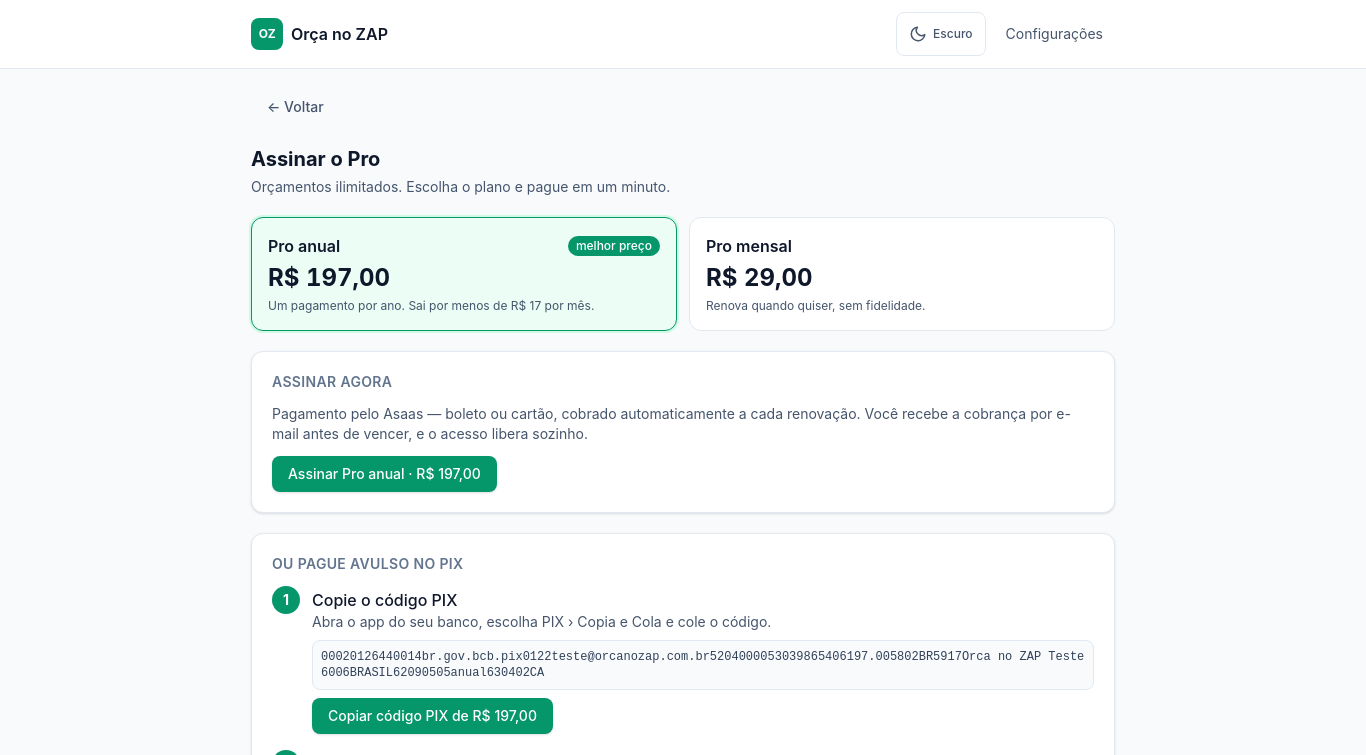
it: tela de assinatura › mostra um código PIX válido para o plano escolhido
Expected: the text "Pro anual" is shown, [268,234,340,258]
Expected: the button "Copiar código PIX de R$ 197,00" is shown, [312,698,553,734]
Click the text "Pro mensal" at (749, 246), box [706,234,792,258]
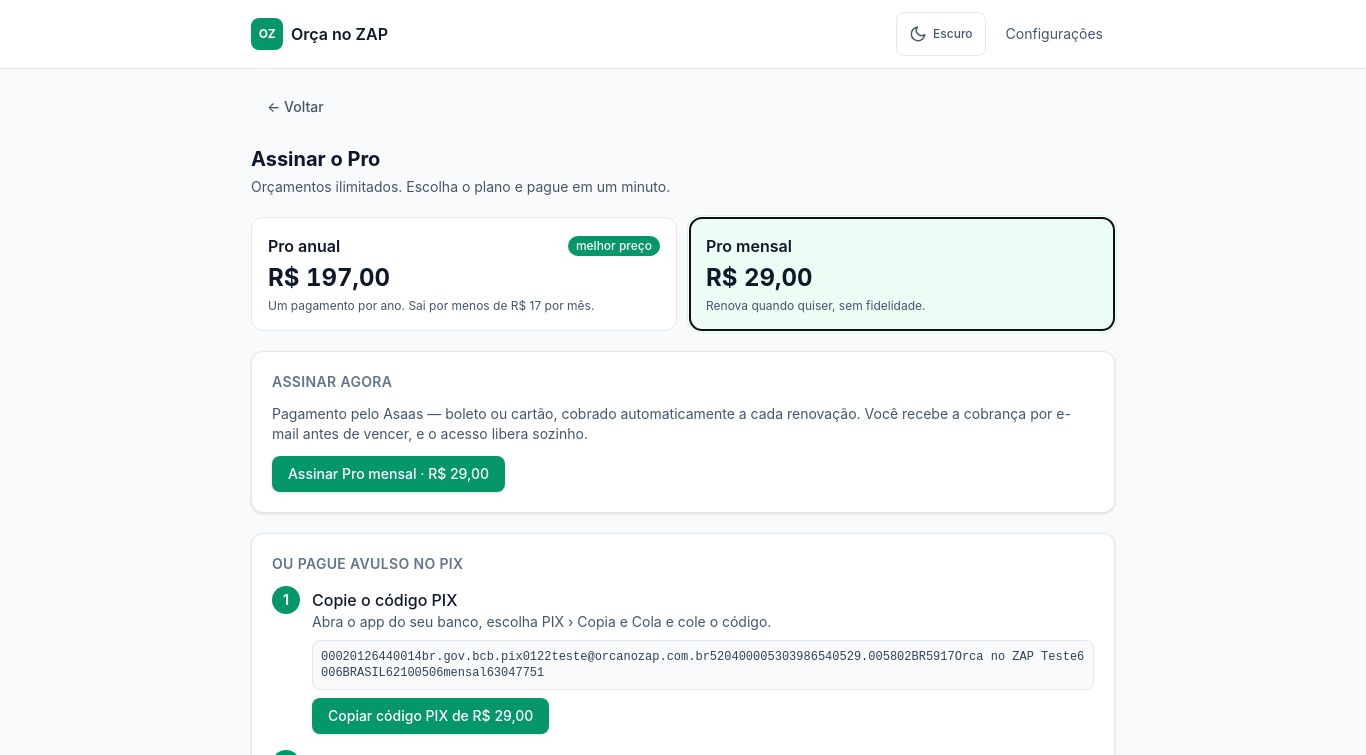
Expected: the text "540529.00" is shown, [321,650,1084,680]
